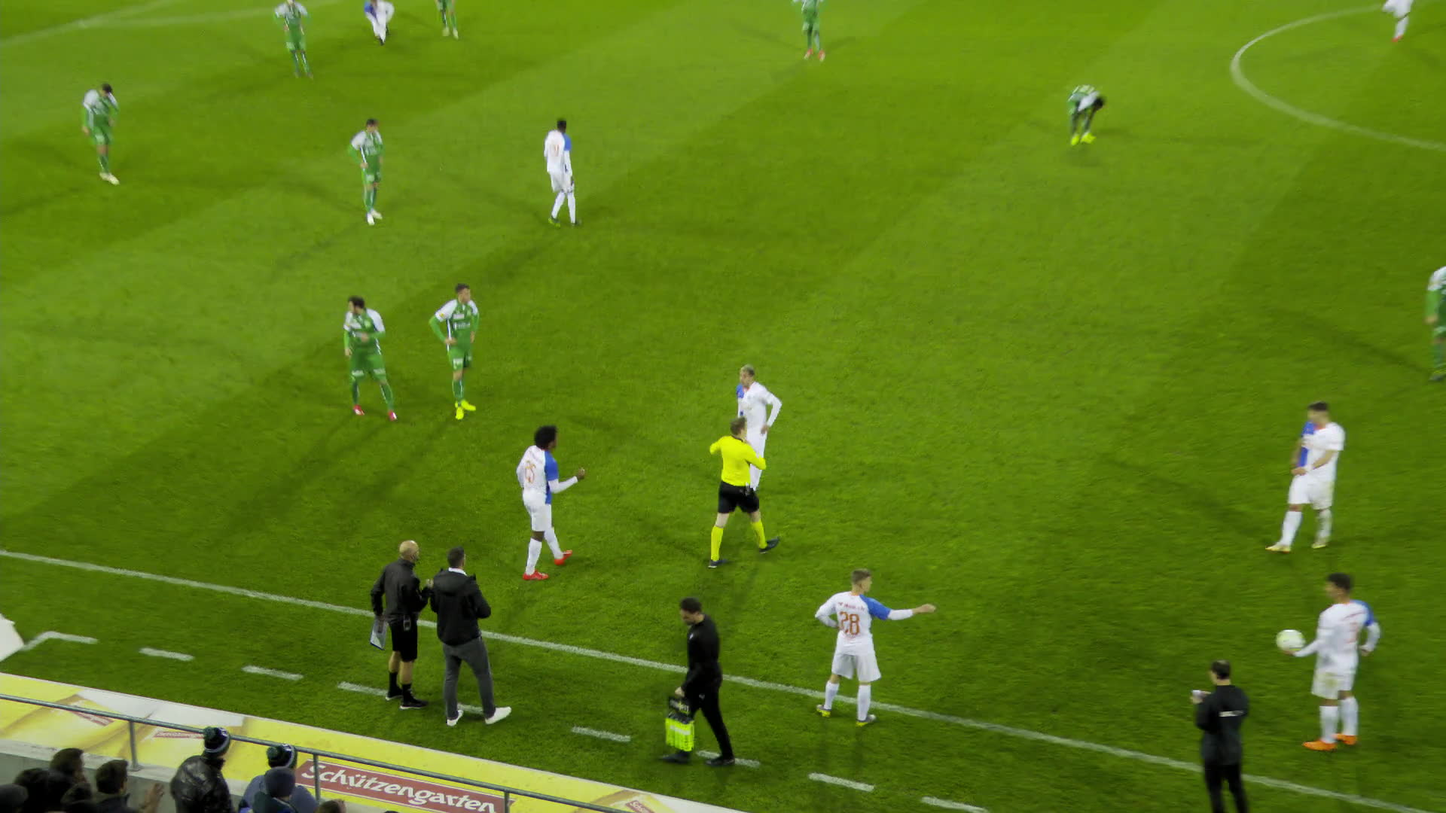ball: (1280, 628, 1308, 652)
player: (814, 570, 935, 726), (1287, 574, 1379, 748), (1264, 400, 1345, 555), (515, 424, 584, 580), (427, 282, 478, 419), (343, 295, 398, 420), (735, 364, 781, 490), (543, 118, 580, 228), (347, 117, 383, 226), (81, 83, 117, 184), (273, 0, 314, 82), (1424, 266, 1445, 381), (1066, 85, 1105, 145), (790, 0, 825, 63), (364, 0, 394, 44), (1381, 0, 1412, 42), (434, 0, 459, 38)
referee: (708, 417, 779, 566)
